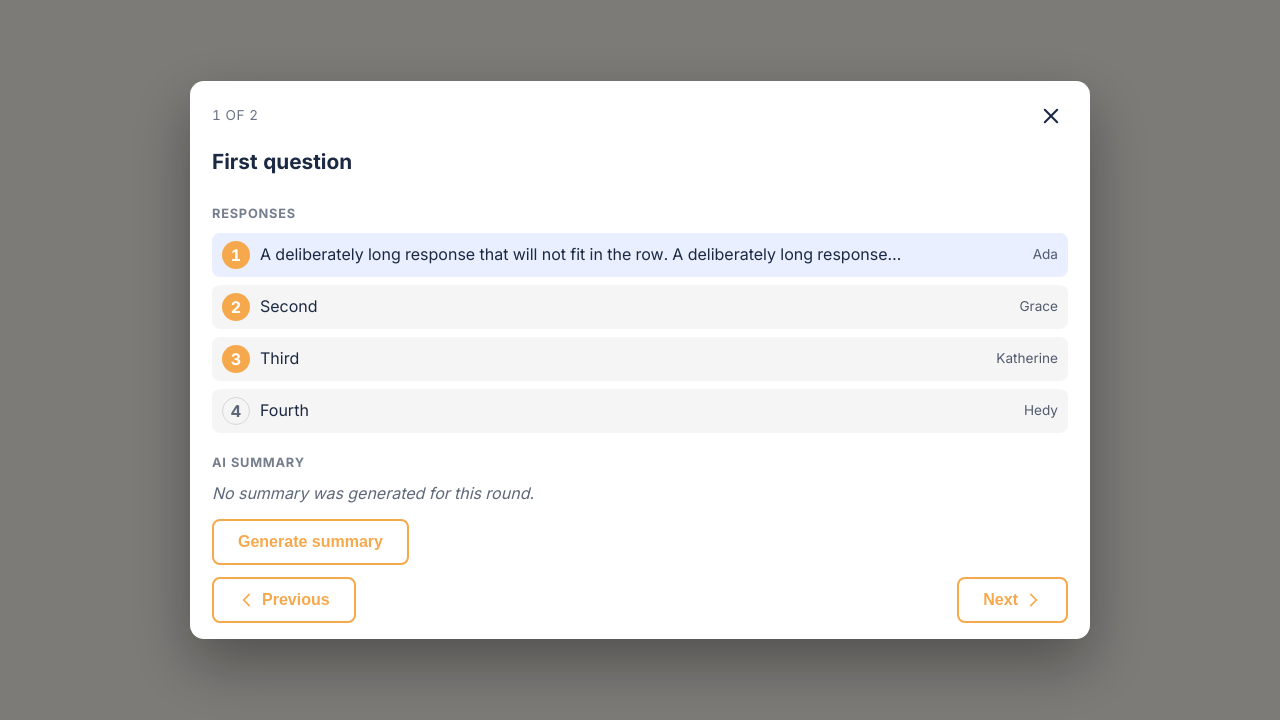
Test: opening one response in full › clicking the number opens the whole response
Click the button "1": (236, 255) [222, 241, 250, 269]
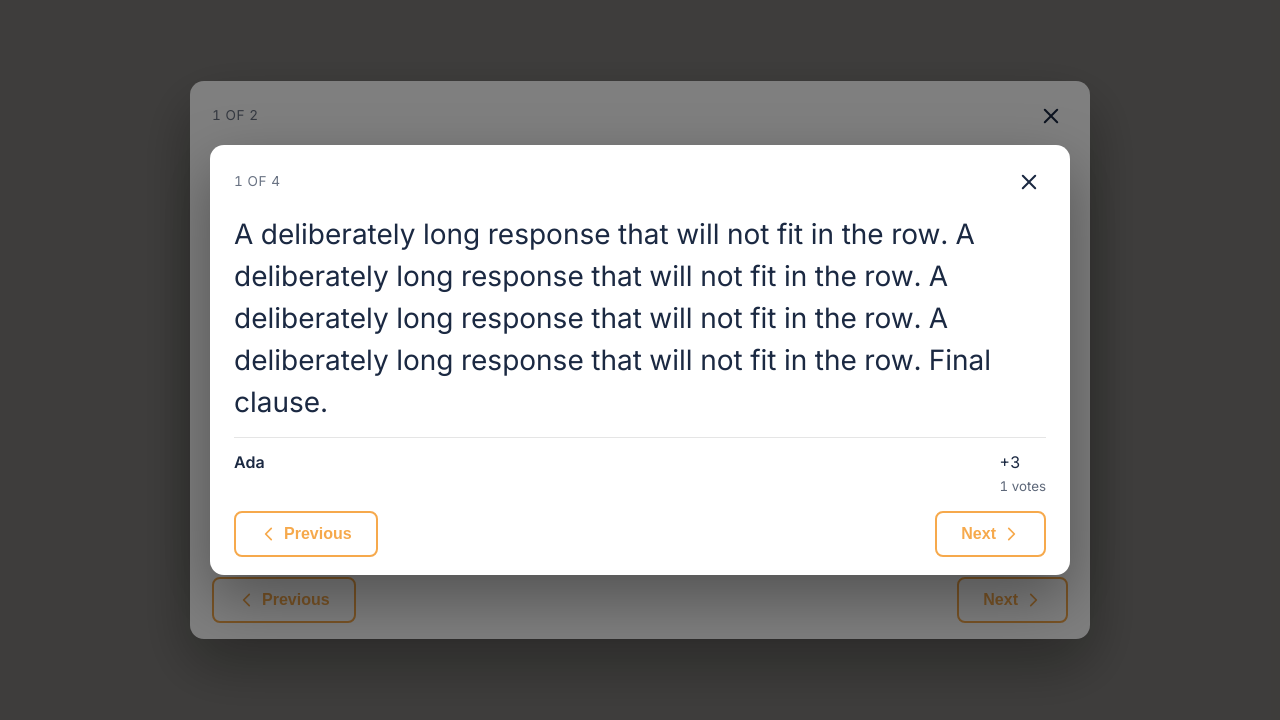
Check: the dialog with class "answer-spotlight" is shown, box [210, 145, 1070, 575]
Check: the dialog with class "answer-spotlight" shows "Final clause.", box [234, 217, 999, 419]
Check: the dialog with class "answer-spotlight" shows "Ada", box [234, 452, 265, 472]
